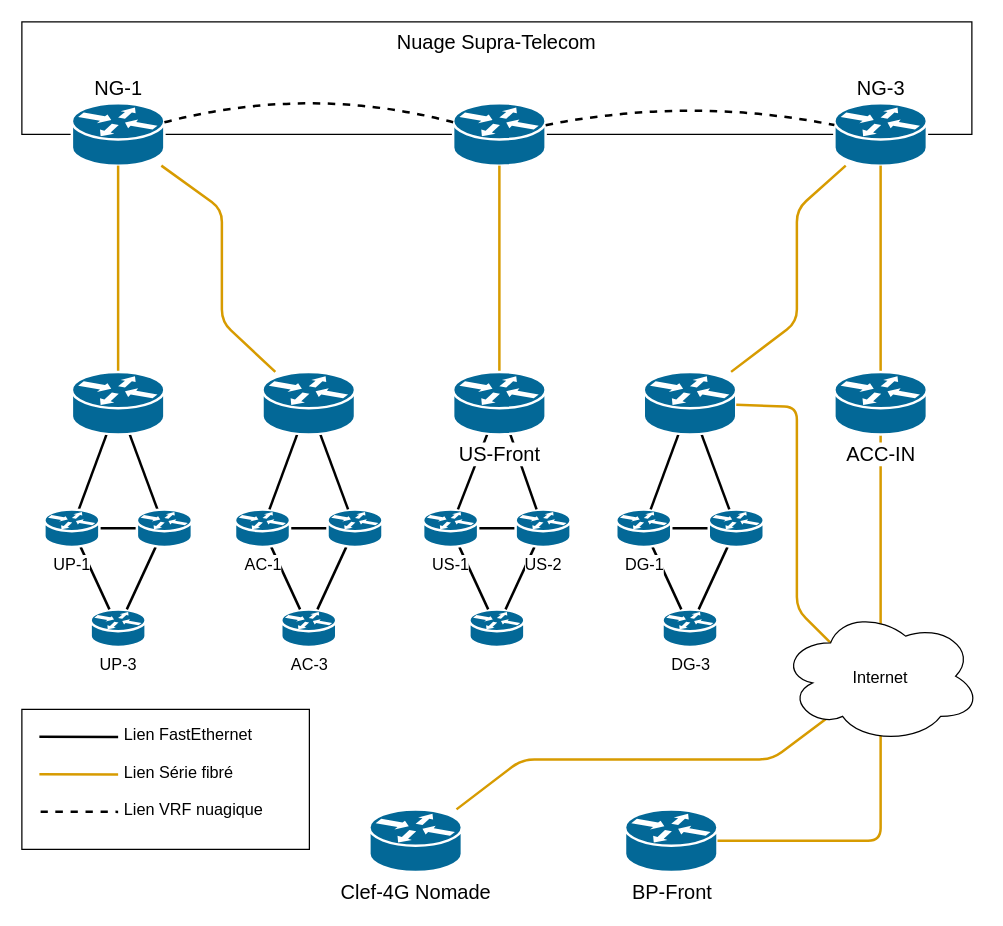
Some shapes in this 1003 by 926 pixel diagram are drawn without their labels. Each missing label, with the centre of its shape:
"AC-2" belongs at pixel 354 528.
"AC-Front" belongs at pixel 308 402.
"DG-2" belongs at pixel 735 528.
"DG-Front" belongs at pixel 689 402.
"NG-2" belongs at pixel 498 133.
"UP-2" belongs at pixel 163 528.
"UP-Front" belongs at pixel 117 402.
"US-3" belongs at pixel 496 628.
